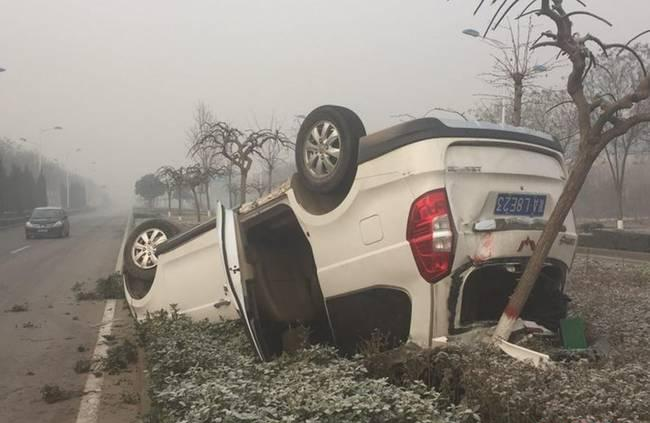car: (118, 105, 579, 390), (25, 207, 70, 238)
